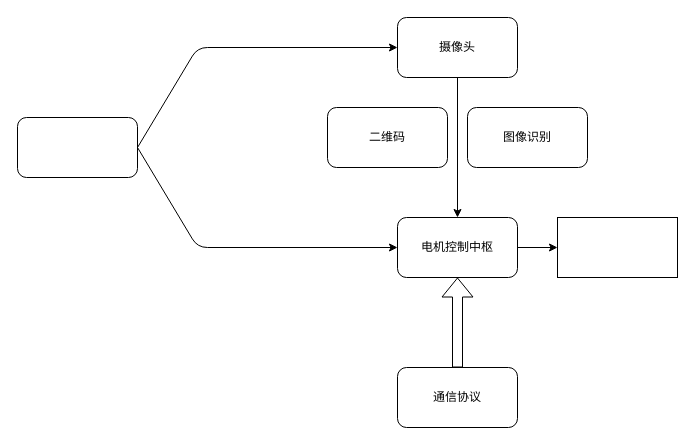
Image size: 695x445. Some labels were removed from this diagram. The shapes that lost their labels are listed below. From the top down, each one's box as (x1, y1, x2, y2) in pixels, then its label:
(16, 116, 138, 178): 树莓派系统启动
(556, 216, 678, 278): 电机
